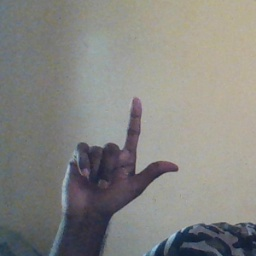L: (57, 96, 182, 221)
